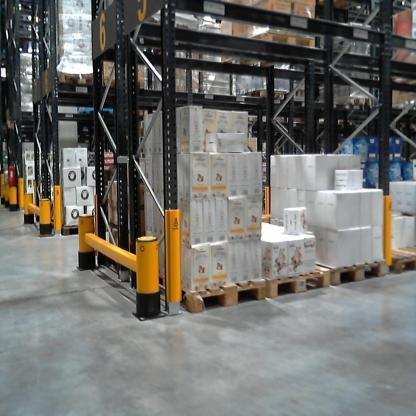pallet: (184, 278, 268, 312), (268, 268, 332, 300), (334, 262, 386, 286)
